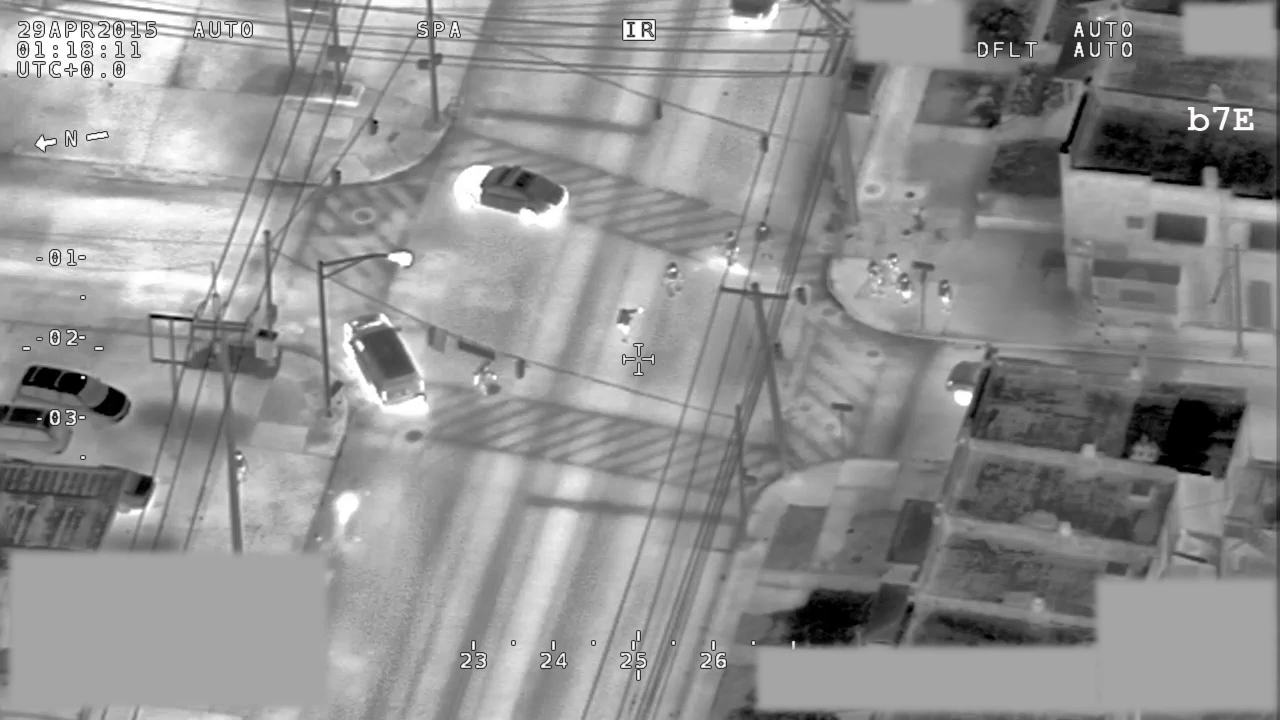vehicle: (340, 312, 429, 415), (12, 359, 136, 430), (449, 156, 572, 227), (1, 403, 77, 463), (93, 459, 151, 516), (722, 1, 781, 38), (944, 351, 982, 407)
